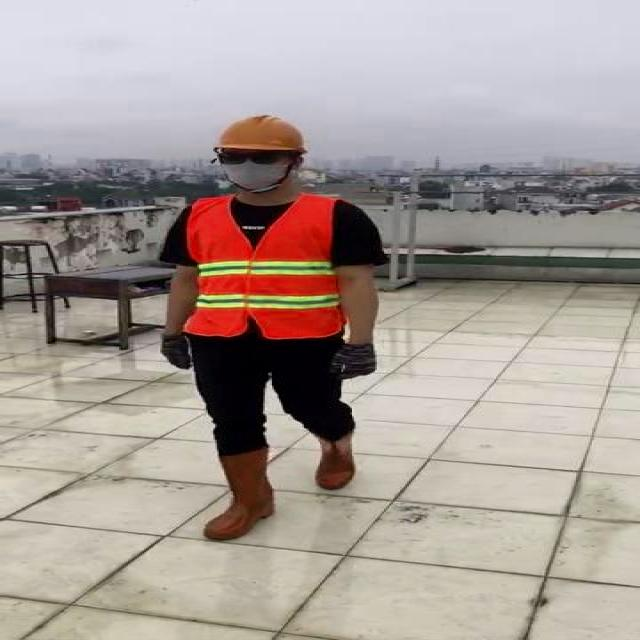boots: (202, 445, 276, 540), (313, 429, 357, 491)
face_mask: (210, 146, 292, 188)
glasses: (209, 146, 291, 169)
hand_glove: (325, 343, 377, 379), (157, 334, 196, 369)
head_helmet: (220, 110, 308, 153)
person: (151, 107, 386, 548)
vest: (185, 196, 352, 338)
